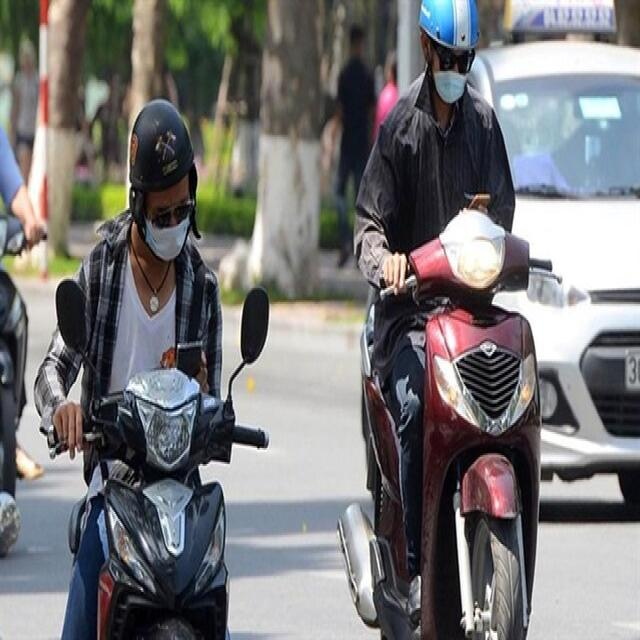1-2-helmet: (123, 88, 200, 198)
